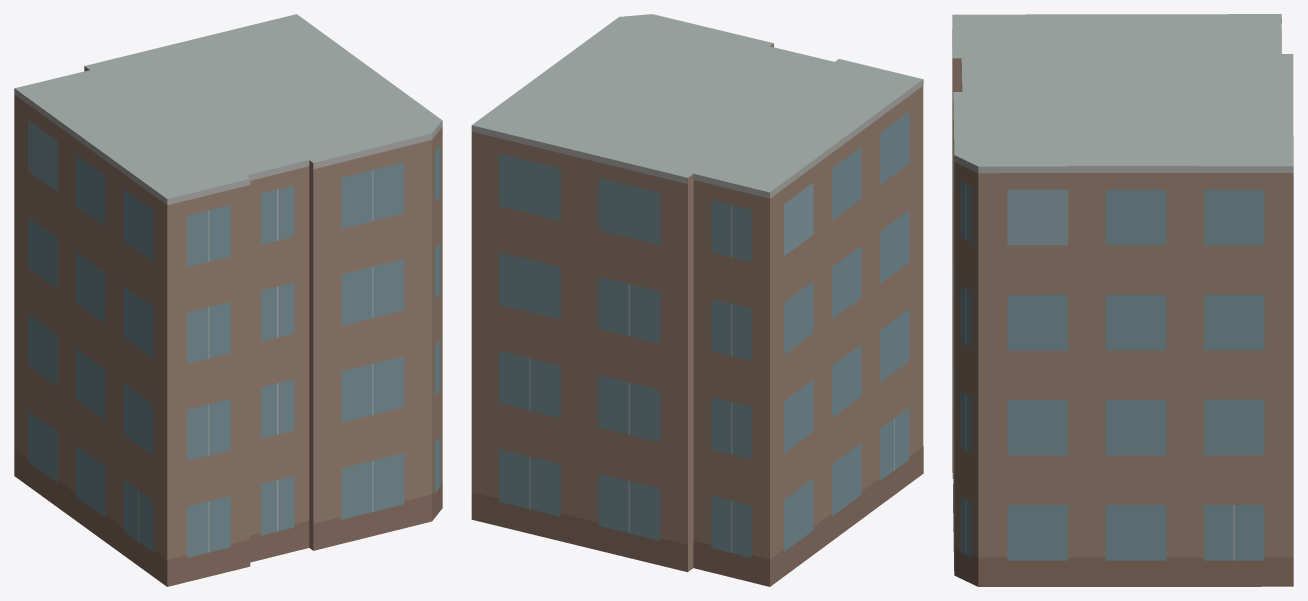
File: survey-upis-32493658.glb
The picture shows the model from 3 angles, left to right: view 1: azimuth 30°, elevation 25°; view 2: azimuth 150°, elevation 25°; view 3: azimuth 270°, elevation 25°; orthographic projection. The views are drawn at different scales.
Visible parts, largest first — view 1: survey-upis-32493658.tmp; view 2: survey-upis-32493658.tmp; view 3: survey-upis-32493658.tmp.
Part boxes in pixels (x1,y1,x2,y2): survey-upis-32493658.tmp: (14,14,442,586); survey-upis-32493658.tmp: (471,14,923,586); survey-upis-32493658.tmp: (952,14,1293,586).
Bounding box in the file's own units: 11.99 × 15.4 × 11.34.
